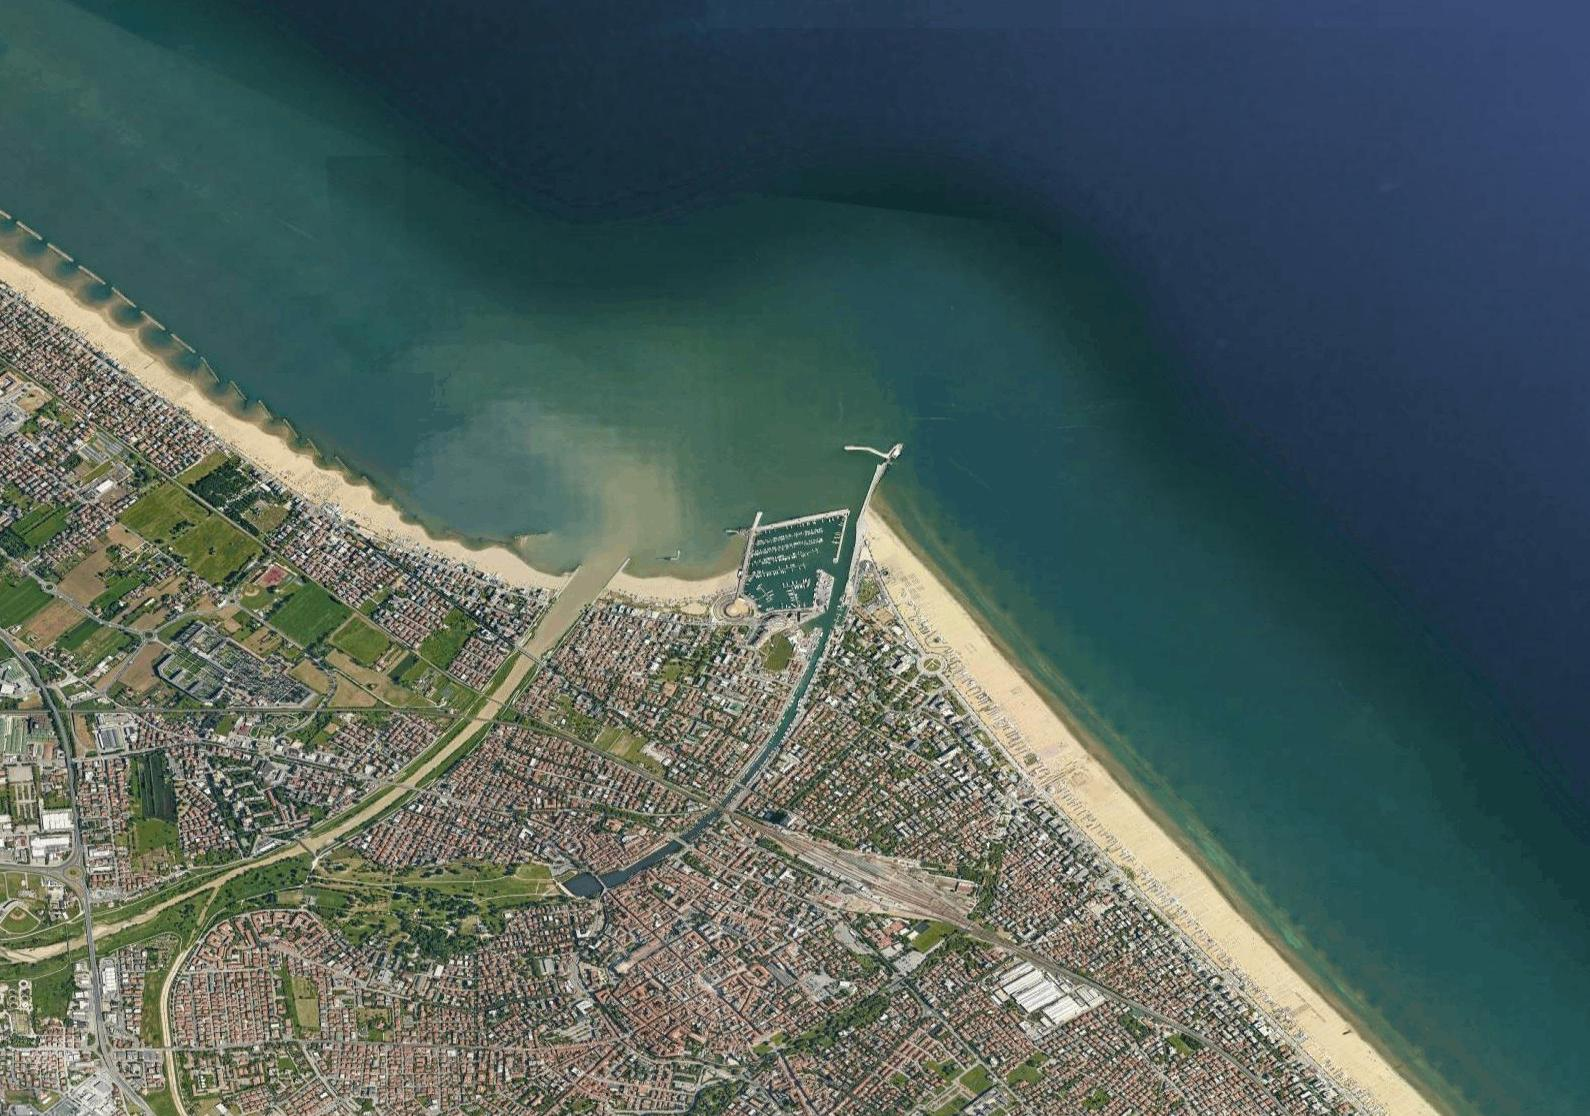bridge: (518, 644, 541, 667), (482, 688, 503, 705), (391, 778, 414, 792), (294, 837, 313, 853), (82, 922, 97, 941), (471, 713, 491, 723)
harbor: (733, 492, 866, 637)
industrial: (1003, 966, 1090, 1033)
